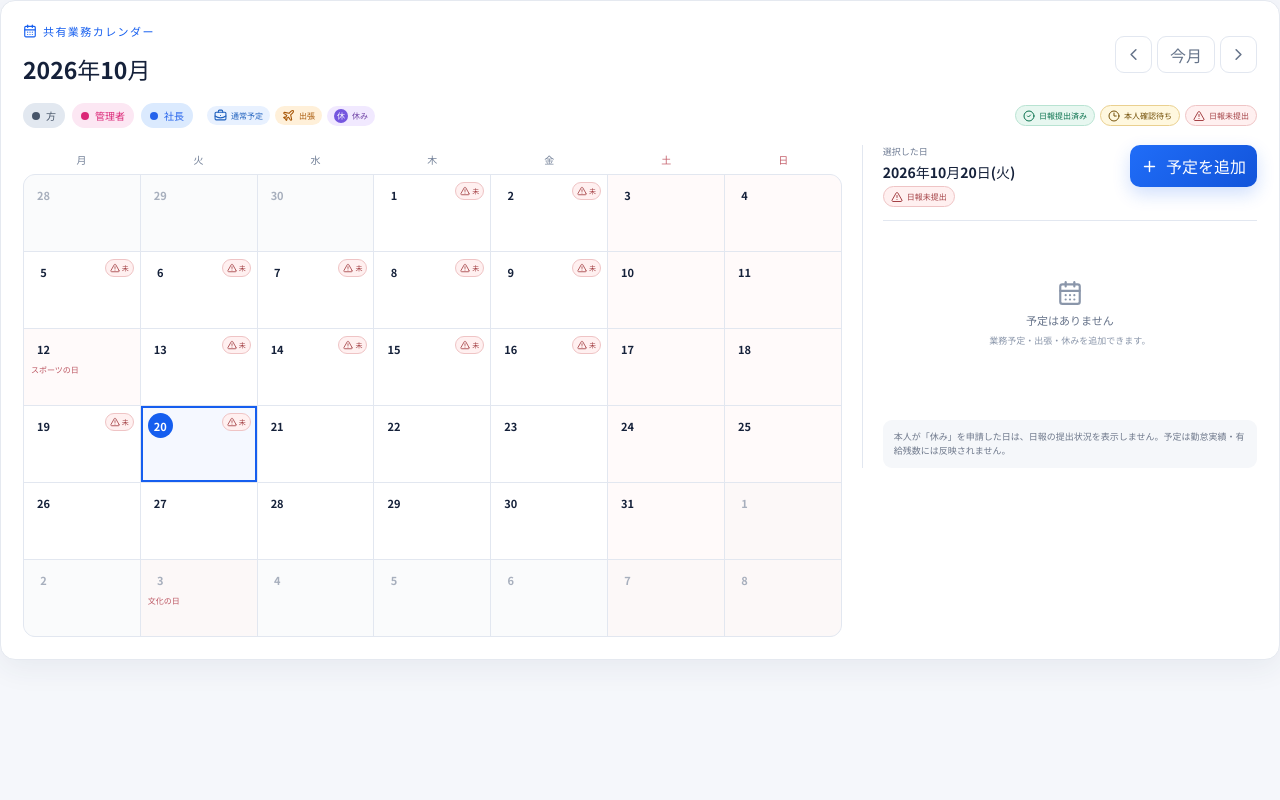
SharedCalendar › selects all three members and hides private fields for leave
Click the button "予定を追加": (1194, 166) [1130,145,1257,187]
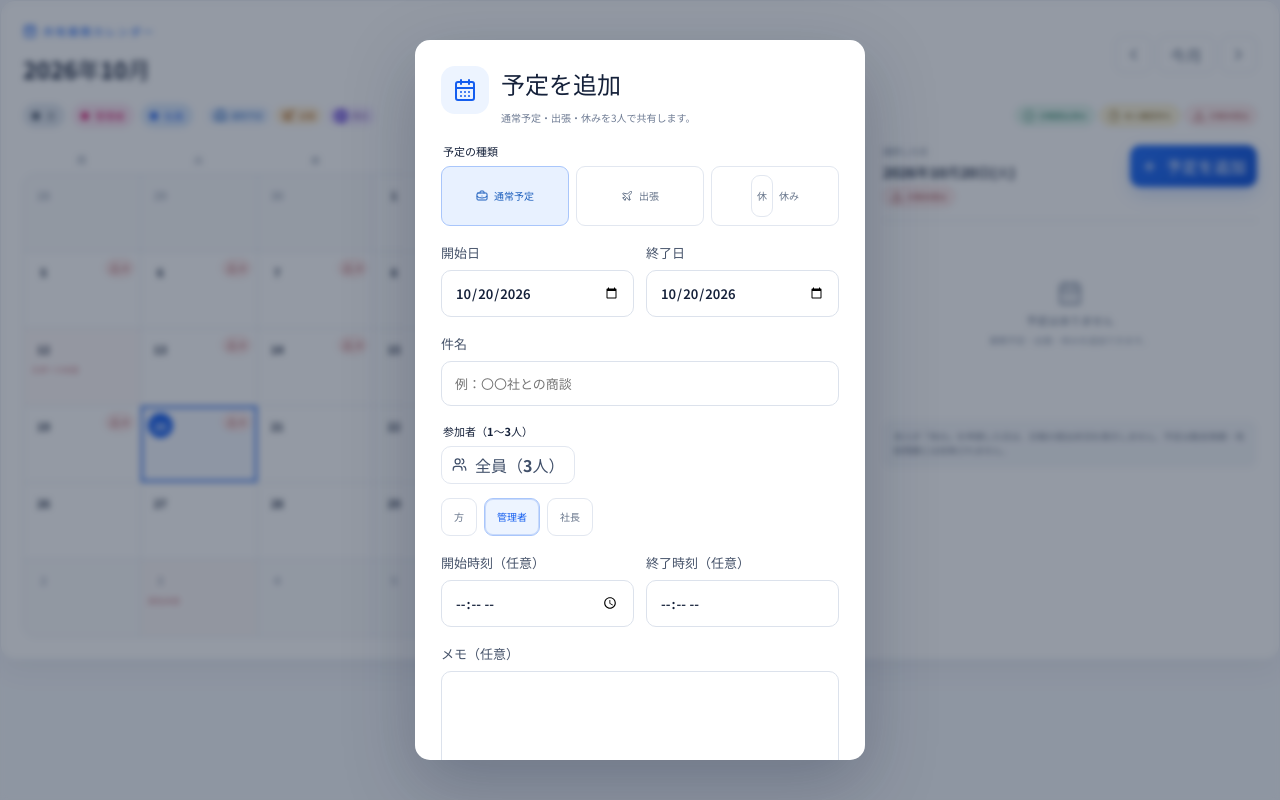
Click the text "休み": (775, 196) [711,166,839,226]
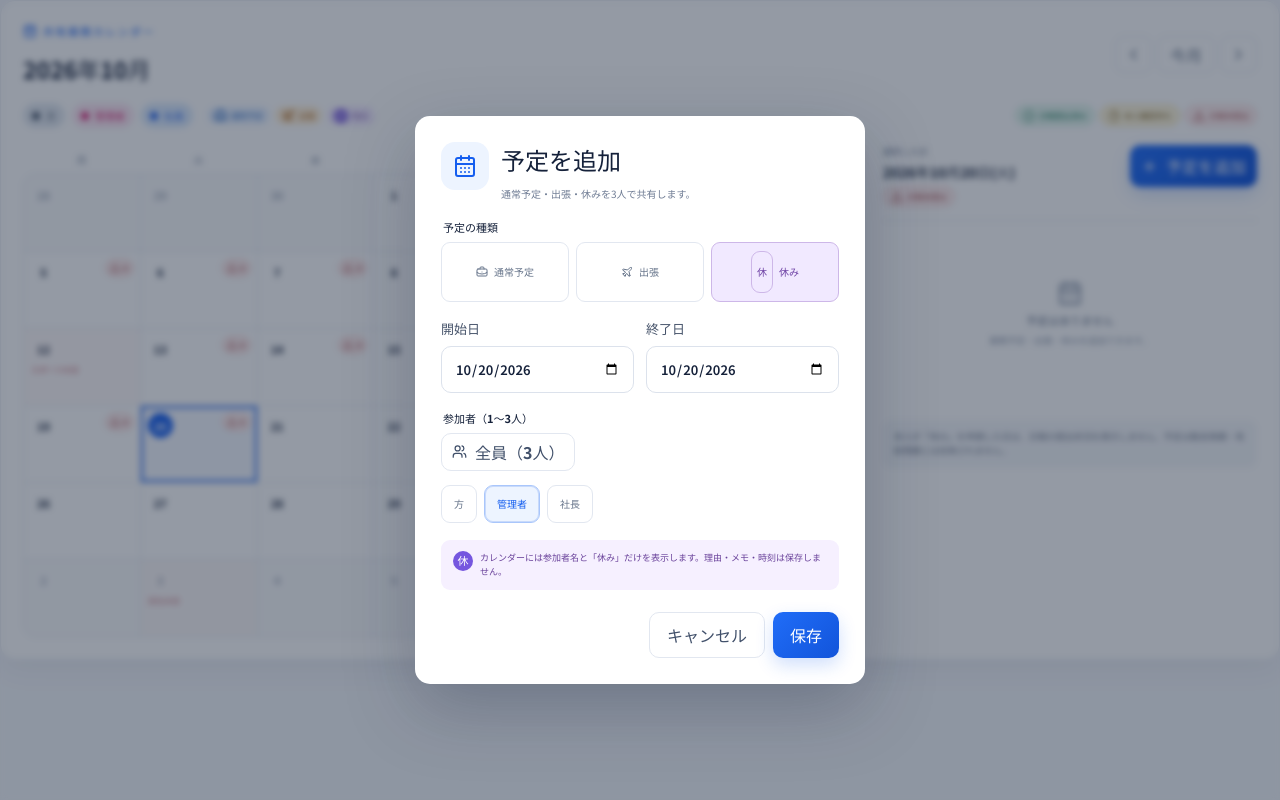
Click the button "全員（3人）": (508, 452) [441,433,576,471]
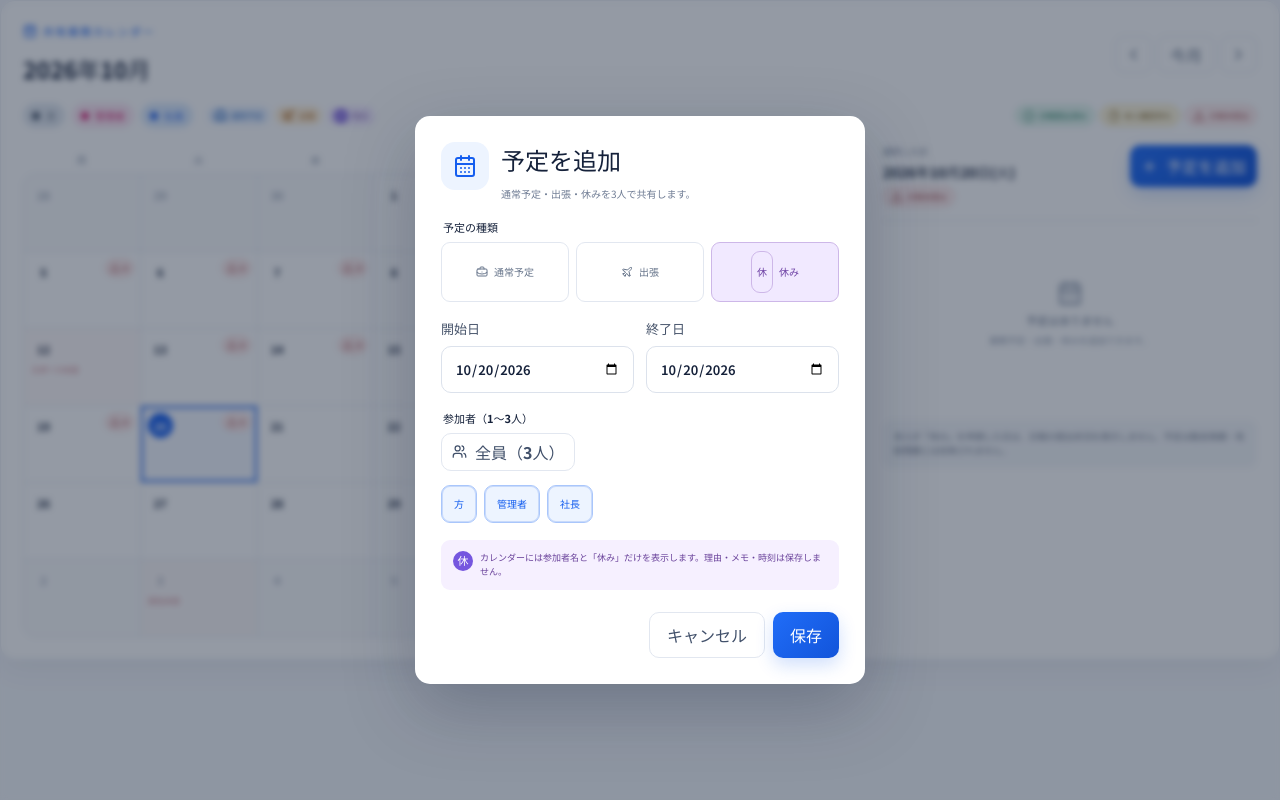
Expected: the checkbox labelled "管理者" is checked, [484,485,540,523]
Expected: the checkbox labelled "方" is checked, [441,485,477,523]
Expected: the checkbox labelled "社長" is checked, [547,485,593,523]
